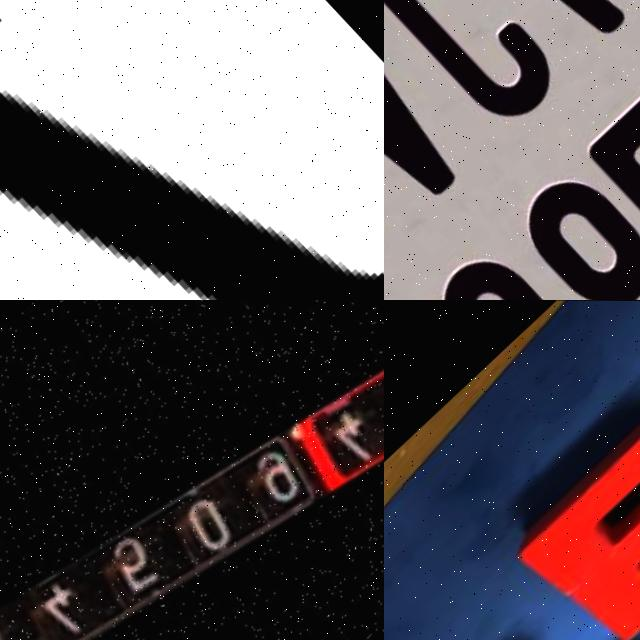0: (172, 489, 253, 567)
1: (0, 0, 384, 300)
4: (410, 0, 640, 57), (313, 396, 384, 480), (27, 574, 108, 640)
5: (99, 526, 181, 604)
8: (503, 160, 640, 300), (417, 230, 640, 300)
9: (239, 439, 325, 522)
A: (384, 0, 493, 221)
C: (384, 0, 584, 136)
E: (501, 388, 640, 640)
L: (576, 85, 640, 300)
